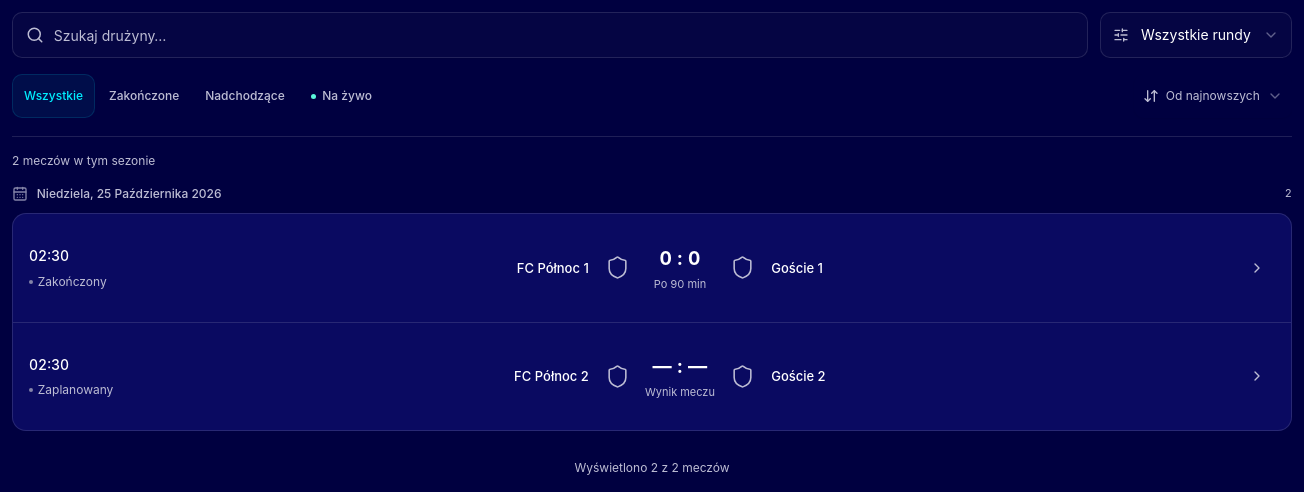
Test case: MatchBrowser › searches Polish team names and recovers from no results by clearing all filters
Click the button "Nadchodzące": coordinates (245, 96) [193,74,297,118]
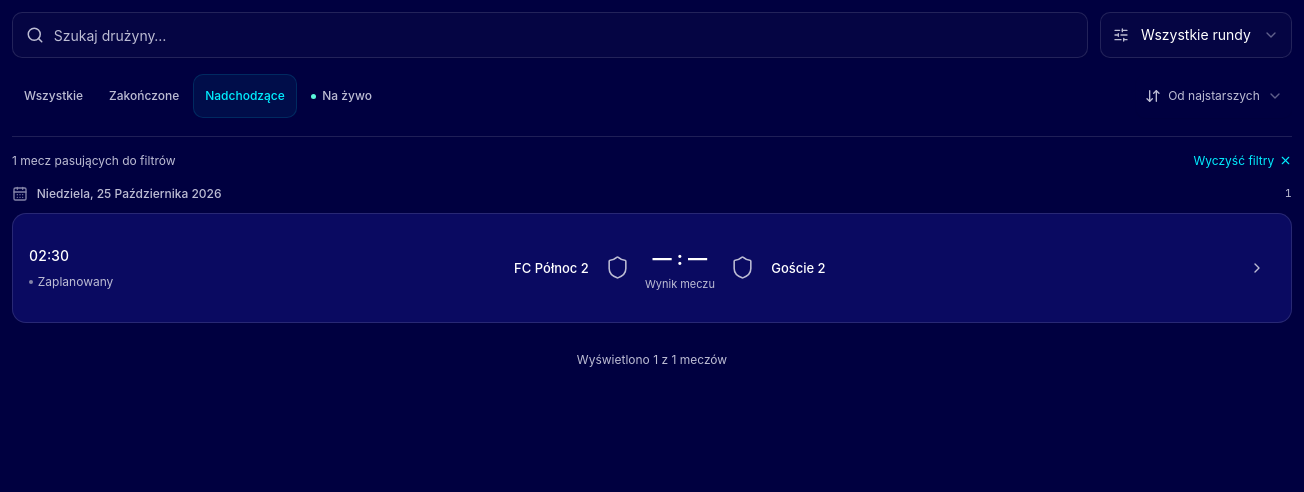
In the search field named "Szukaj drużyny lub rundy": coordinates (550, 35) [12,12,1088,58], type "POLNOC"
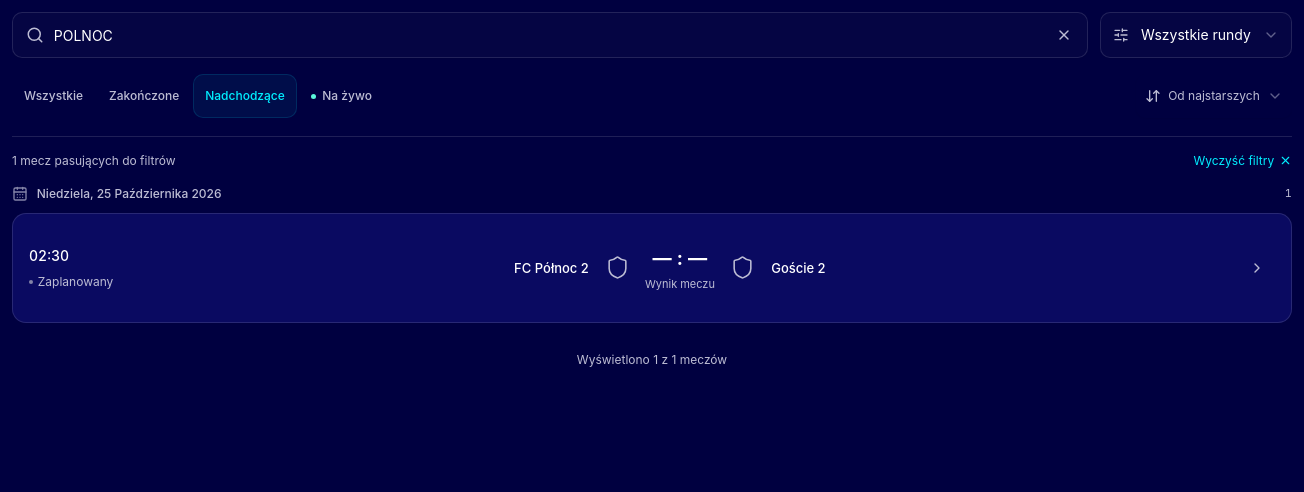
Expected: the element named "FC Północ 2 — Goście 2" is shown, [29,246,1279,291]
Replace the text in the search field named "Szukaj drużyny lub rundy" with "nieistniejąca drużyna": coordinates (550, 35) [12,12,1088,58]
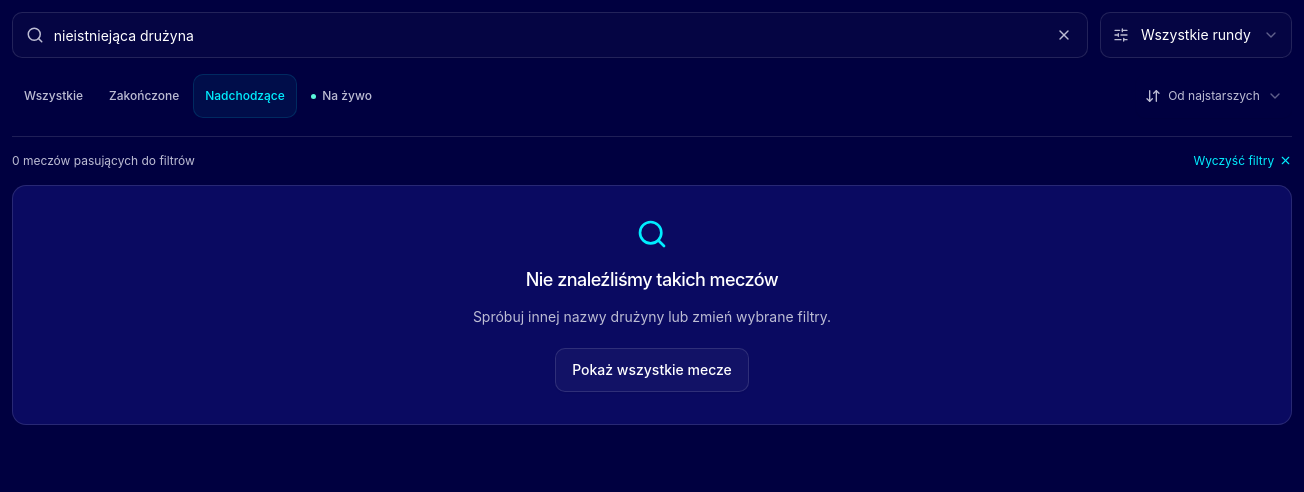
Now the heading "Nie znaleźliśmy takich meczów" is shown, box [526,269,778,290]
Click the button "Pokaż wszystkie mecze": coordinates (652, 370) [555,348,749,392]
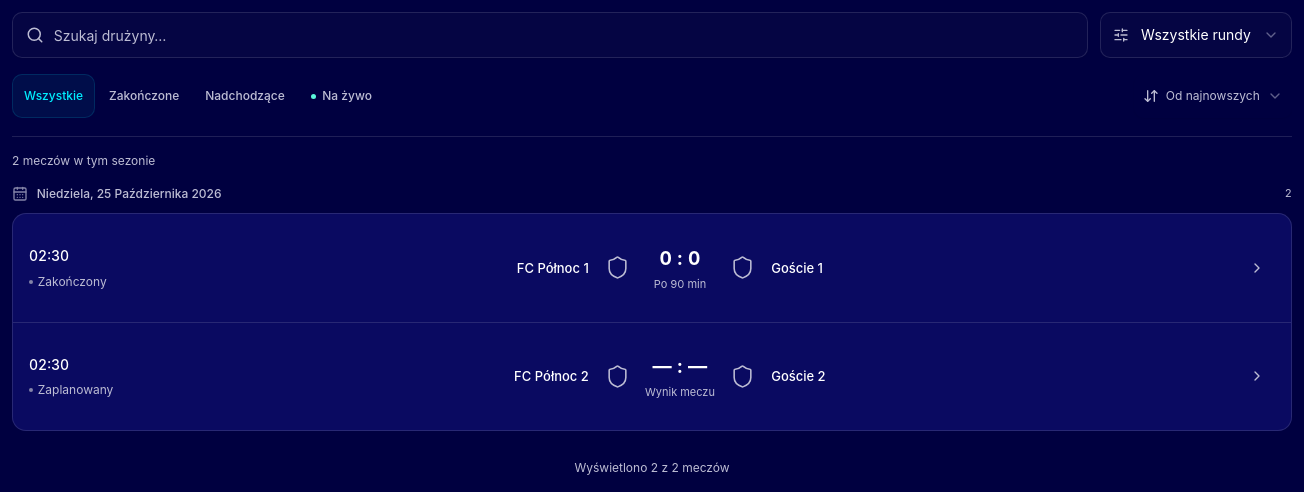
Now the search field named "Szukaj drużyny lub rundy" is empty, box [12,12,1088,58]
Now the heading "Nie znaleźliśmy takich meczów" is gone
